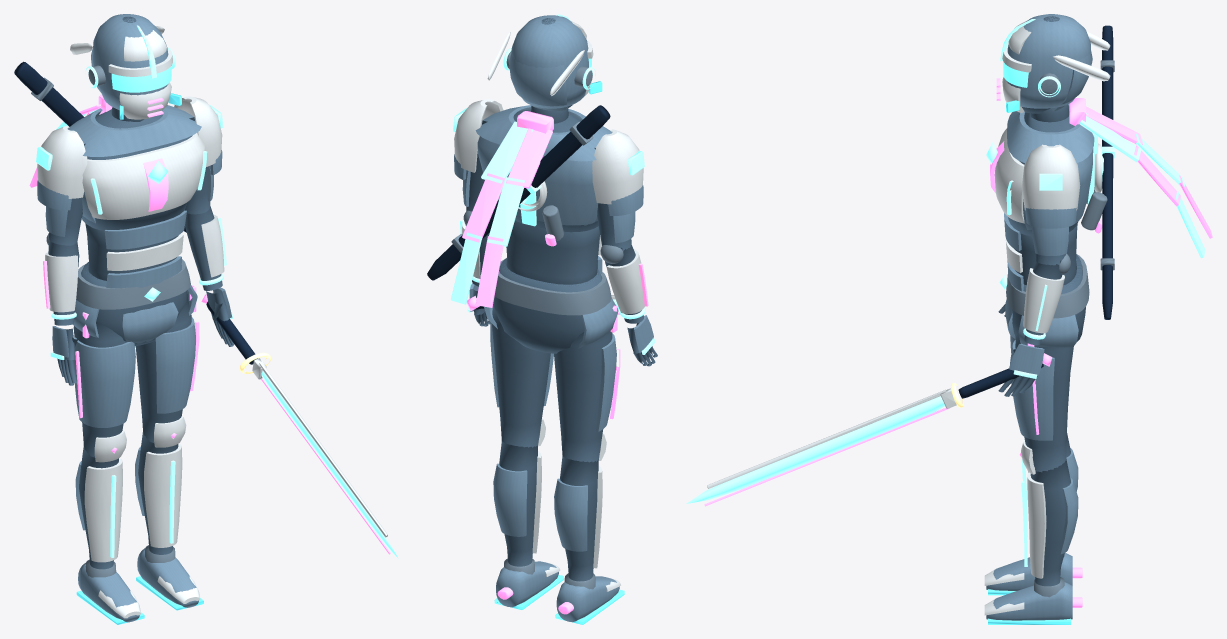
The model's file is Cyber-Ninja-Operative-Exact-Mesh-v4.1.0.glb.
The picture shows the model from 3 angles, left to right: view 1: azimuth 30°, elevation 25°; view 2: azimuth 150°, elevation 25°; view 3: azimuth 270°, elevation 25°; orthographic projection. The views are drawn at different scales.
Visible parts, largest first — view 1: chestPlate, thighPlateL, collar, greaveL, thighPlateR, greaveR, helmetShell, pauldronL, belt, thighR, ribcage, abPlate2 (+31 smaller); view 2: thighR, thighL, abdomen, pelvis, helmetShell, backPlate, belt, pauldronL, sheath, shinR, shinL, calfGuardL (+32 smaller); view 3: helmetShell, photonBlade, pauldronR, thighR, sheath, shinR, collar, thighPlateR, bootR, bracerR, chestPlate, greaveR (+14 smaller).
Part boxes in pixels (left/top/right/bottom): chestPlate: left=82, top=133, right=204, bottom=219; thighPlateL: left=73, top=337, right=135, bottom=427; collar: left=68, top=105, right=201, bottom=156; greaveL: left=84, top=458, right=122, bottom=562; thighPlateR: left=155, top=317, right=195, bottom=413; greaveR: left=144, top=444, right=182, bottom=547; helmetShell: left=93, top=14, right=168, bottom=109; pauldronL: left=37, top=125, right=87, bottom=198; belt: left=76, top=259, right=190, bottom=309; thighR: left=135, top=294, right=191, bottom=442; ribcage: left=82, top=109, right=192, bottom=230; abPlate2: left=104, top=210, right=186, bottom=249; thighR: left=491, top=305, right=550, bottom=447; thighL: left=554, top=331, right=612, bottom=462; abdomen: left=506, top=221, right=599, bottom=284; pelvis: left=493, top=258, right=601, bottom=353; helmetShell: left=511, top=15, right=588, bottom=108; backPlate: left=477, top=136, right=598, bottom=225; belt: left=494, top=259, right=611, bottom=315; pauldronL: left=592, top=129, right=643, bottom=204; sheath: left=427, top=105, right=610, bottom=280; shinR: left=499, top=441, right=537, bottom=566; shinL: left=560, top=456, right=598, bottom=581; calfGuardL: left=554, top=478, right=587, bottom=551; helmetShell: left=1006, top=14, right=1090, bottom=108; photonBlade: left=686, top=396, right=945, bottom=503; pauldronR: left=1022, top=144, right=1080, bottom=210; thighR: left=1015, top=332, right=1073, bottom=472; sheath: left=1102, top=25, right=1113, bottom=319; shinR: left=1030, top=458, right=1070, bottom=586; collar: left=1007, top=104, right=1094, bottom=163; thighPlateR: left=1010, top=340, right=1054, bottom=440; bootR: left=986, top=582, right=1072, bottom=620; bracerR: left=1023, top=268, right=1064, bottom=333; chestPlate: left=994, top=128, right=1024, bottom=223; greaveR: left=1027, top=472, right=1046, bottom=578.
Size of the model in its own units: 0.6555 by 1.94 by 1.58.
Materials: 10 (5 with a texture image).
